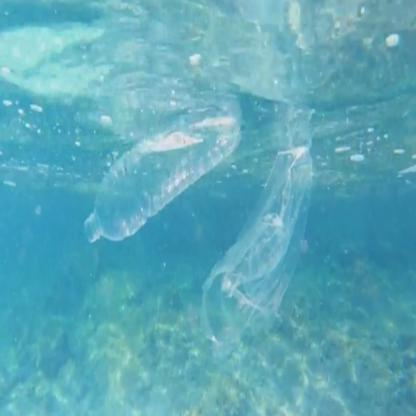Rác: (61, 43, 223, 244), (229, 146, 345, 352)
